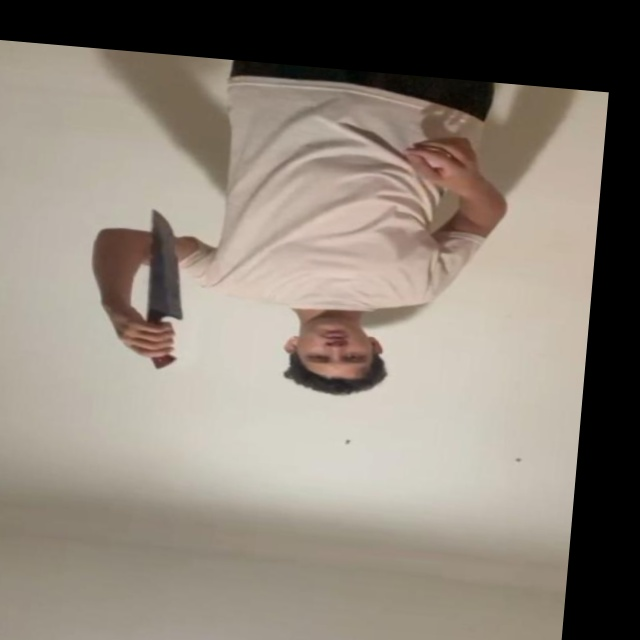Sharp-Object: (139, 209, 196, 321)
